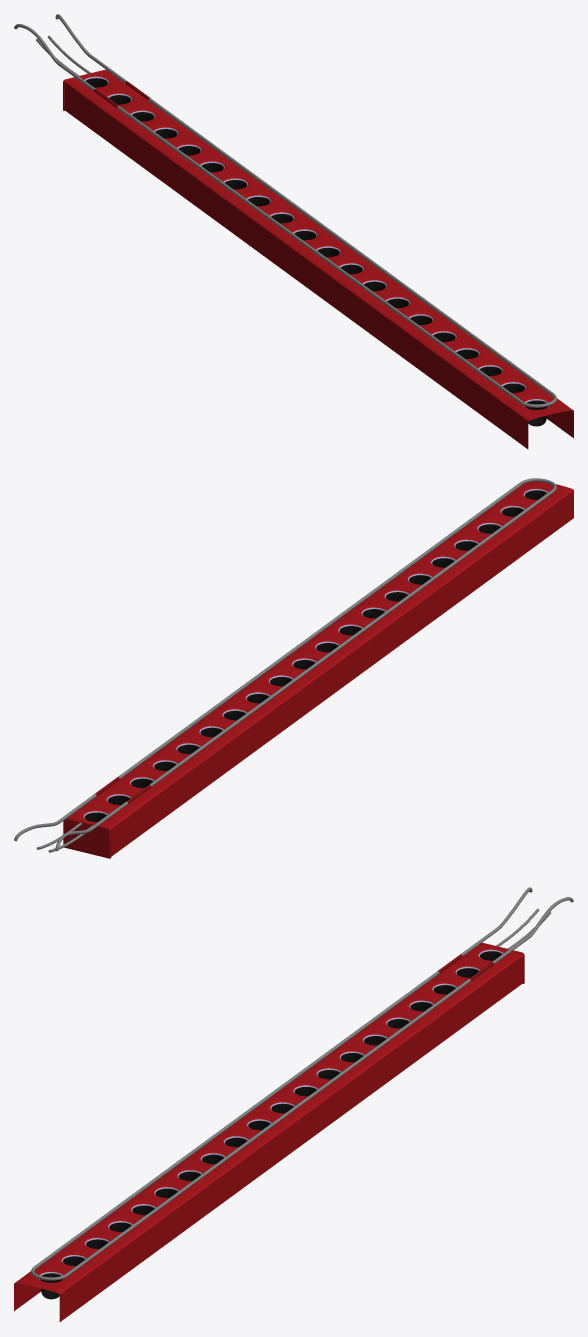
Rendered from FinishRail.fbx.
3 views of the same model, one above another, from view 1: azimuth 30°, elevation 25°; view 2: azimuth 150°, elevation 25°; view 3: azimuth 330°, elevation 25° (orthographic).
Visible parts, largest first — view 1: FinishRail, FinishModule020, FinishModule019, FinishModule018, FinishModule005, FinishModule006, FinishModule015, FinishModule016, FinishModule017, FinishModule003, FinishModule008, FinishModule011 (+9 smaller); view 2: FinishRail, FinishModule009, FinishModule010, FinishModule016, FinishModule005, FinishModule013, FinishModule003, FinishModule004, FinishModule007, FinishModule011, FinishModule017, FinishModule018 (+10 smaller); view 3: FinishRail, FinishModule020, FinishModule019, FinishModule004, FinishModule007, FinishModule008, FinishModule002, FinishModule003, FinishModule010, FinishModule011, FinishModule014, FinishModule005 (+9 smaller).
Boxes of the visible parts, left/top/right/bottom form: FinishRail: left=14, top=14, right=556, bottom=407; FinishModule020: left=505, top=393, right=573, bottom=449; FinishModule019: left=482, top=376, right=550, bottom=432; FinishModule018: left=458, top=359, right=524, bottom=415; FinishModule005: left=157, top=139, right=223, bottom=194; FinishModule006: left=180, top=156, right=246, bottom=211; FinishModule015: left=389, top=308, right=455, bottom=364; FinishModule016: left=412, top=325, right=478, bottom=381; FinishModule017: left=435, top=342, right=501, bottom=398; FinishModule003: left=111, top=105, right=176, bottom=160; FinishModule008: left=227, top=190, right=292, bottom=245; FinishModule011: left=296, top=240, right=362, bottom=296; FinishRail: left=14, top=478, right=556, bottom=852; FinishModule009: left=253, top=665, right=319, bottom=721; FinishModule010: left=276, top=648, right=342, bottom=704; FinishModule016: left=415, top=546, right=481, bottom=602; FinishModule005: left=161, top=733, right=226, bottom=788; FinishModule013: left=346, top=597, right=411, bottom=653; FinishModule003: left=114, top=767, right=180, bottom=822; FinishModule004: left=137, top=750, right=203, bottom=805; FinishModule007: left=207, top=699, right=272, bottom=754; FinishModule011: left=299, top=631, right=365, bottom=687; FinishModule017: left=438, top=529, right=504, bottom=585; FinishModule018: left=462, top=512, right=527, bottom=568; FinishRail: left=31, top=887, right=573, bottom=1280; FinishModule020: left=14, top=1266, right=82, bottom=1321; FinishModule019: left=37, top=1249, right=105, bottom=1305; FinishModule004: left=388, top=995, right=453, bottom=1050; FinishModule007: left=318, top=1046, right=383, bottom=1101; FinishModule008: left=295, top=1062, right=360, bottom=1118; FinishModule002: left=434, top=961, right=499, bottom=1016; FinishModule003: left=411, top=978, right=476, bottom=1033; FinishModule010: left=249, top=1096, right=314, bottom=1152; FinishModule011: left=225, top=1113, right=291, bottom=1169; FinishModule014: left=156, top=1164, right=221, bottom=1220; FinishModule005: left=364, top=1012, right=430, bottom=1067.
Bounding box in the file's own units: 133 × 2517 × 139.
